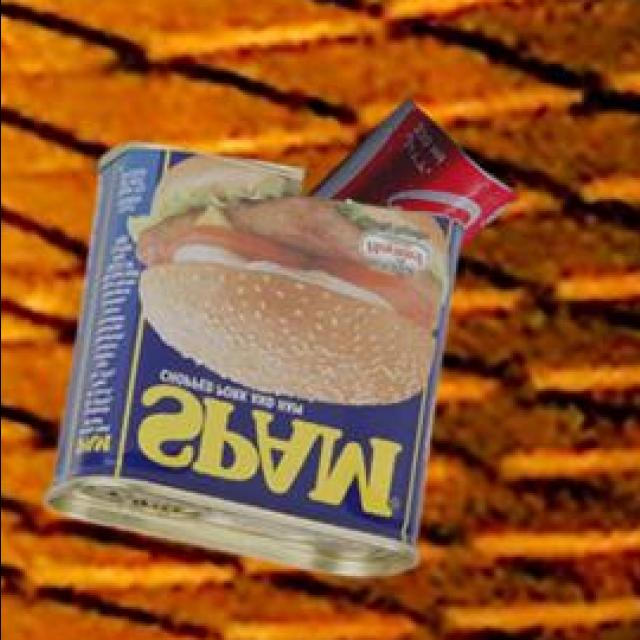logam: (41, 139, 459, 572), (302, 96, 513, 245)
